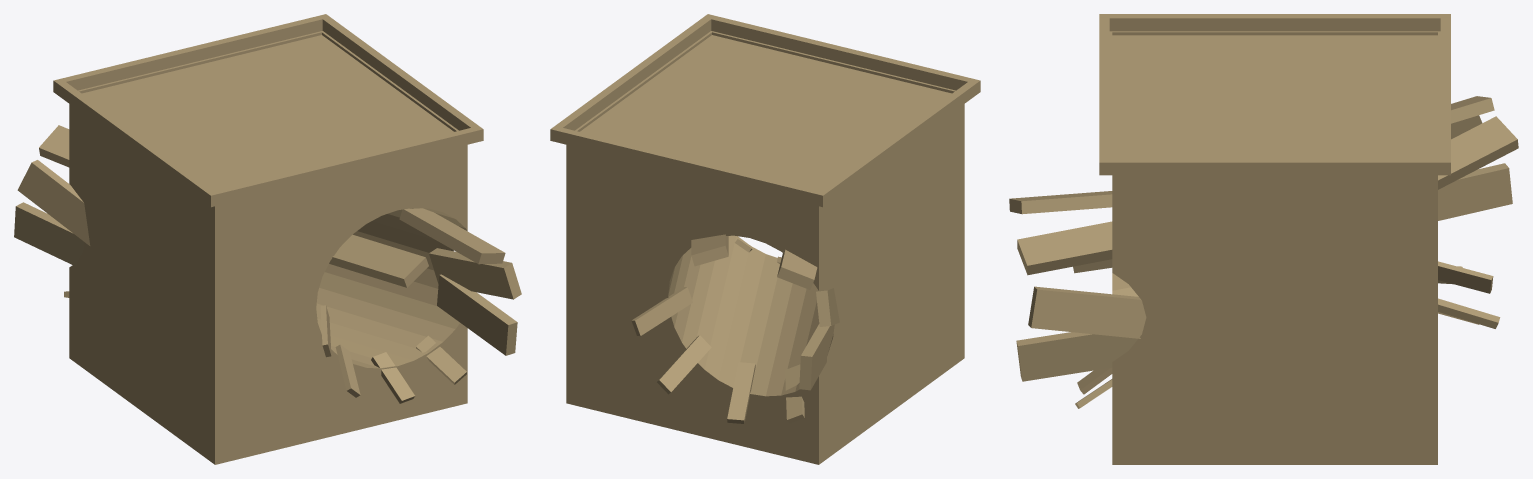
The model's file is Boat.fbx.
3 renders of one model, left to right at view 1: azimuth 30°, elevation 25°; view 2: azimuth 150°, elevation 25°; view 3: azimuth 270°, elevation 25°, orthographic. The views are drawn at different scales.
Parts seen in each view (by area): view 1: Cube; view 2: Cube; view 3: Cube.
Boxes of the visible parts, x1,y1,x2,y2 form: Cube: (14, 14, 521, 464); Cube: (550, 14, 980, 464); Cube: (1009, 14, 1518, 464).
Bounding box in the file's own units: 240 × 209 × 313.
